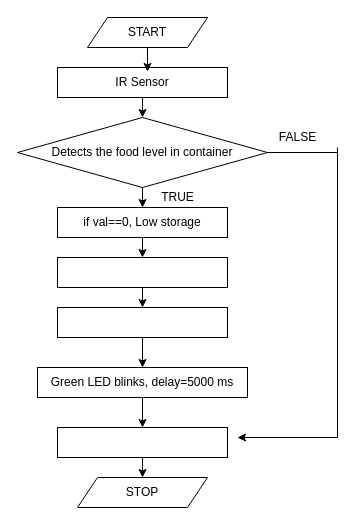
This 363x525 diagram has some shape labels left out. Here are the shapes that lost their labels. From the top down, the centre of each, then its label:
the point at 142,272: DC Motor ON
the point at 142,322: delay=6000 ms
the point at 142,442: if val==1, High storage
